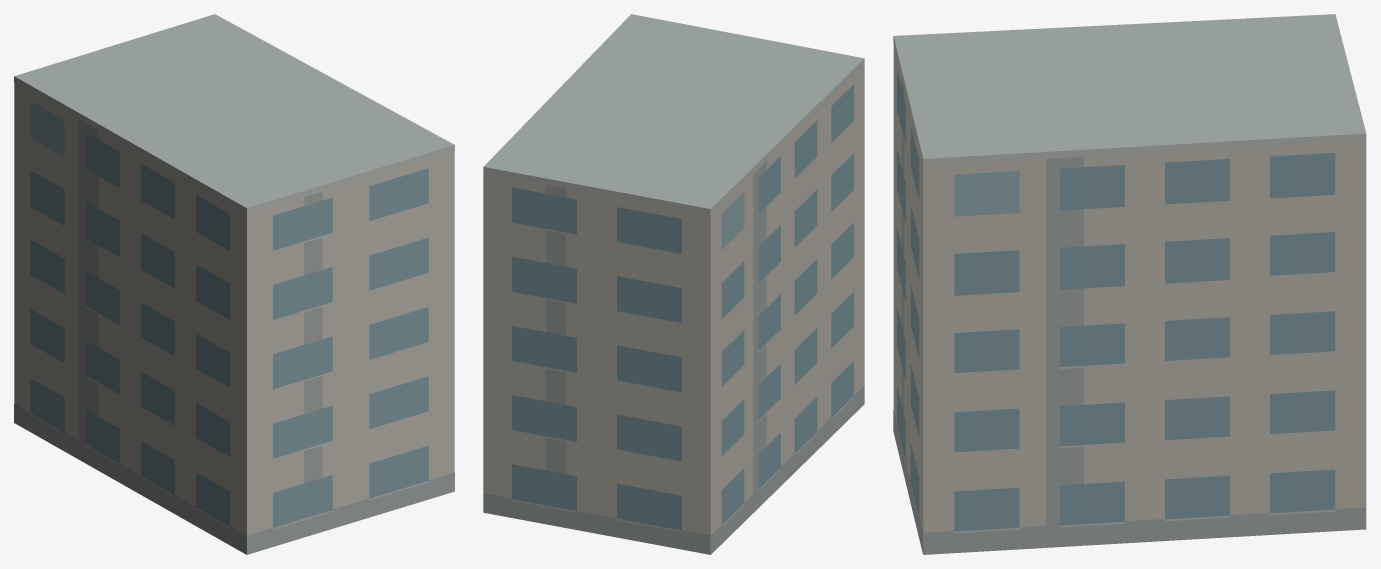
File: survey-upis-32576233.glb
3 renders of one model, left to right at view 1: azimuth 30°, elevation 25°; view 2: azimuth 150°, elevation 25°; view 3: azimuth 270°, elevation 25°, orthographic. The views are drawn at different scales.
Visible parts, largest first — view 1: survey-upis-32576233.tmp; view 2: survey-upis-32576233.tmp; view 3: survey-upis-32576233.tmp.
Part boxes in pixels (x1,y1,x2,y2): survey-upis-32576233.tmp: [14, 14, 454, 554]; survey-upis-32576233.tmp: [483, 14, 864, 554]; survey-upis-32576233.tmp: [893, 14, 1366, 554].
Size of the model in its own units: 10.85 by 13.8 by 14.94.
